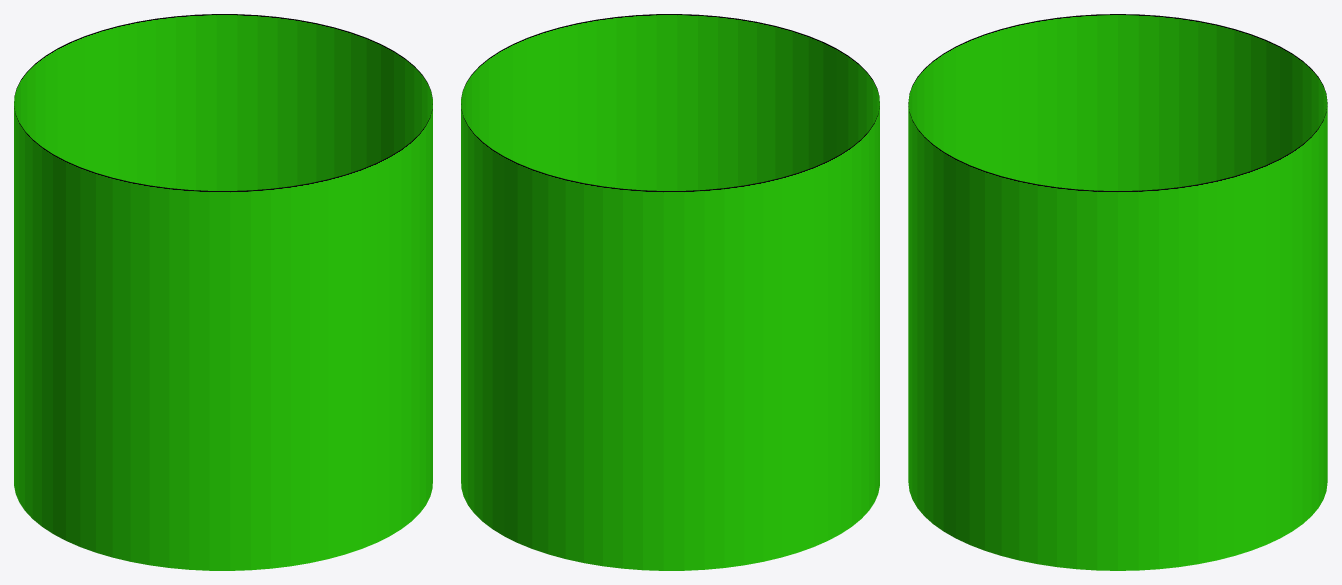
Rendered from telecylinderlite.fbx.
3 views of the same model, side by side, from view 1: azimuth 30°, elevation 25°; view 2: azimuth 150°, elevation 25°; view 3: azimuth 270°, elevation 25° (orthographic).
Parts seen in each view (by area): view 1: Cylinder.007; view 2: Cylinder.007; view 3: Cylinder.007.
Part boxes in pixels (bbox=[...]): Cylinder.007: bbox=[14, 14, 432, 570]; Cylinder.007: bbox=[461, 14, 879, 570]; Cylinder.007: bbox=[908, 14, 1327, 570].
Size of the model in its own units: 20 by 20 by 20.
